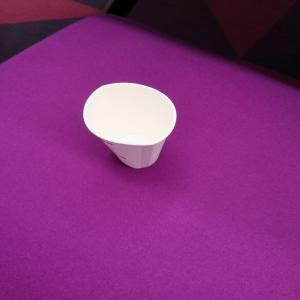Cup: (83, 83, 179, 171)
